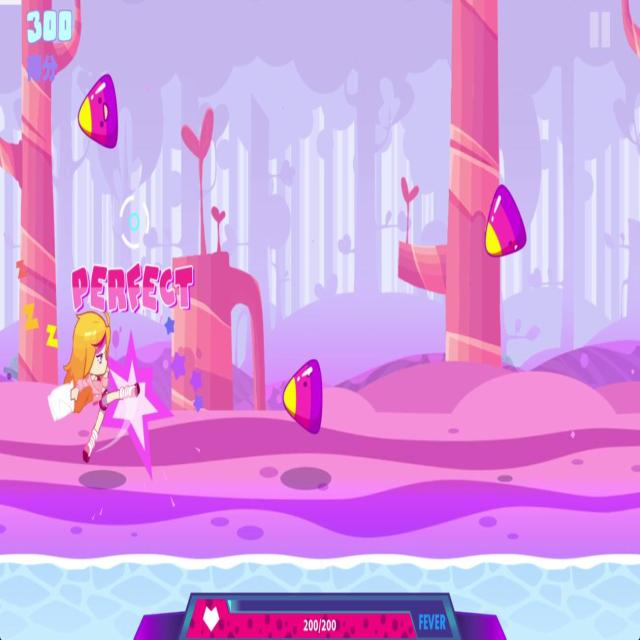jian: (478, 178, 532, 264), (77, 68, 123, 157), (281, 354, 325, 441)
